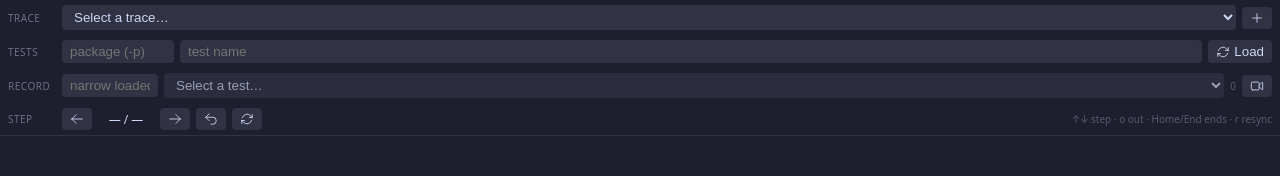
DebugWalkthroughTile › recording from the UI › says so when the crate simply has no tests
The width and height of the screenshot is (1280, 176).
What coordinates should you click on to do the following:
click the button with aria-label "Load tests"
I would click on:
 (1240, 52)
Its box is x1=1208 y1=40 x2=1272 y2=63.
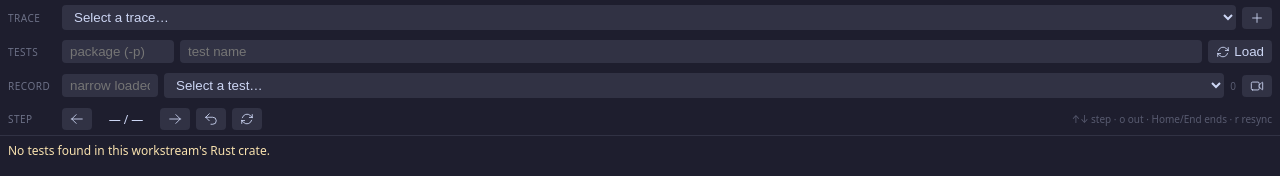
Check: the text with test id "walkthrough-tests-unavailable" shows "No tests", box x1=8 y1=142 x2=270 y2=159
